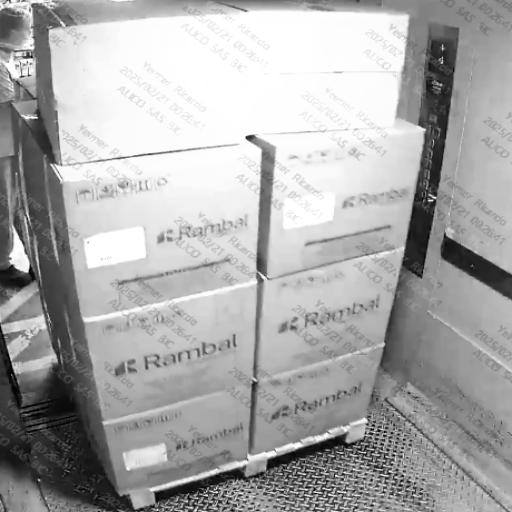Rollos sin amarrar: (190, 84, 330, 280)
